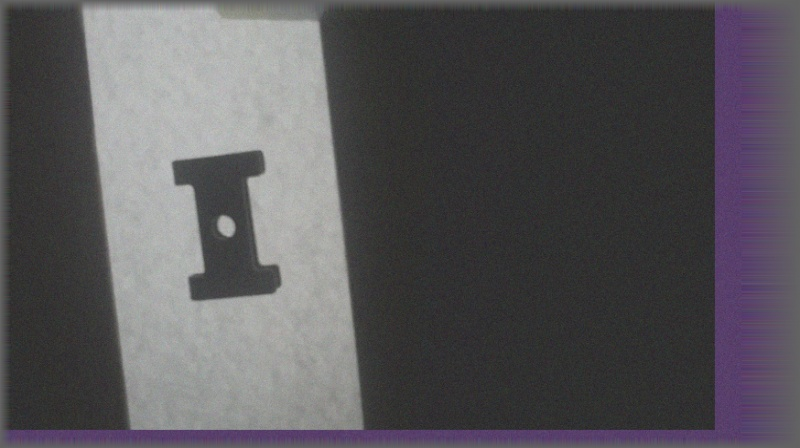O002: (166, 146, 280, 303)
